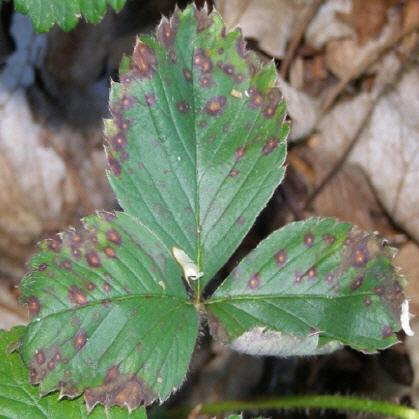Leaf Spot: (101, 0, 292, 297), (4, 208, 200, 418), (204, 215, 416, 356)
